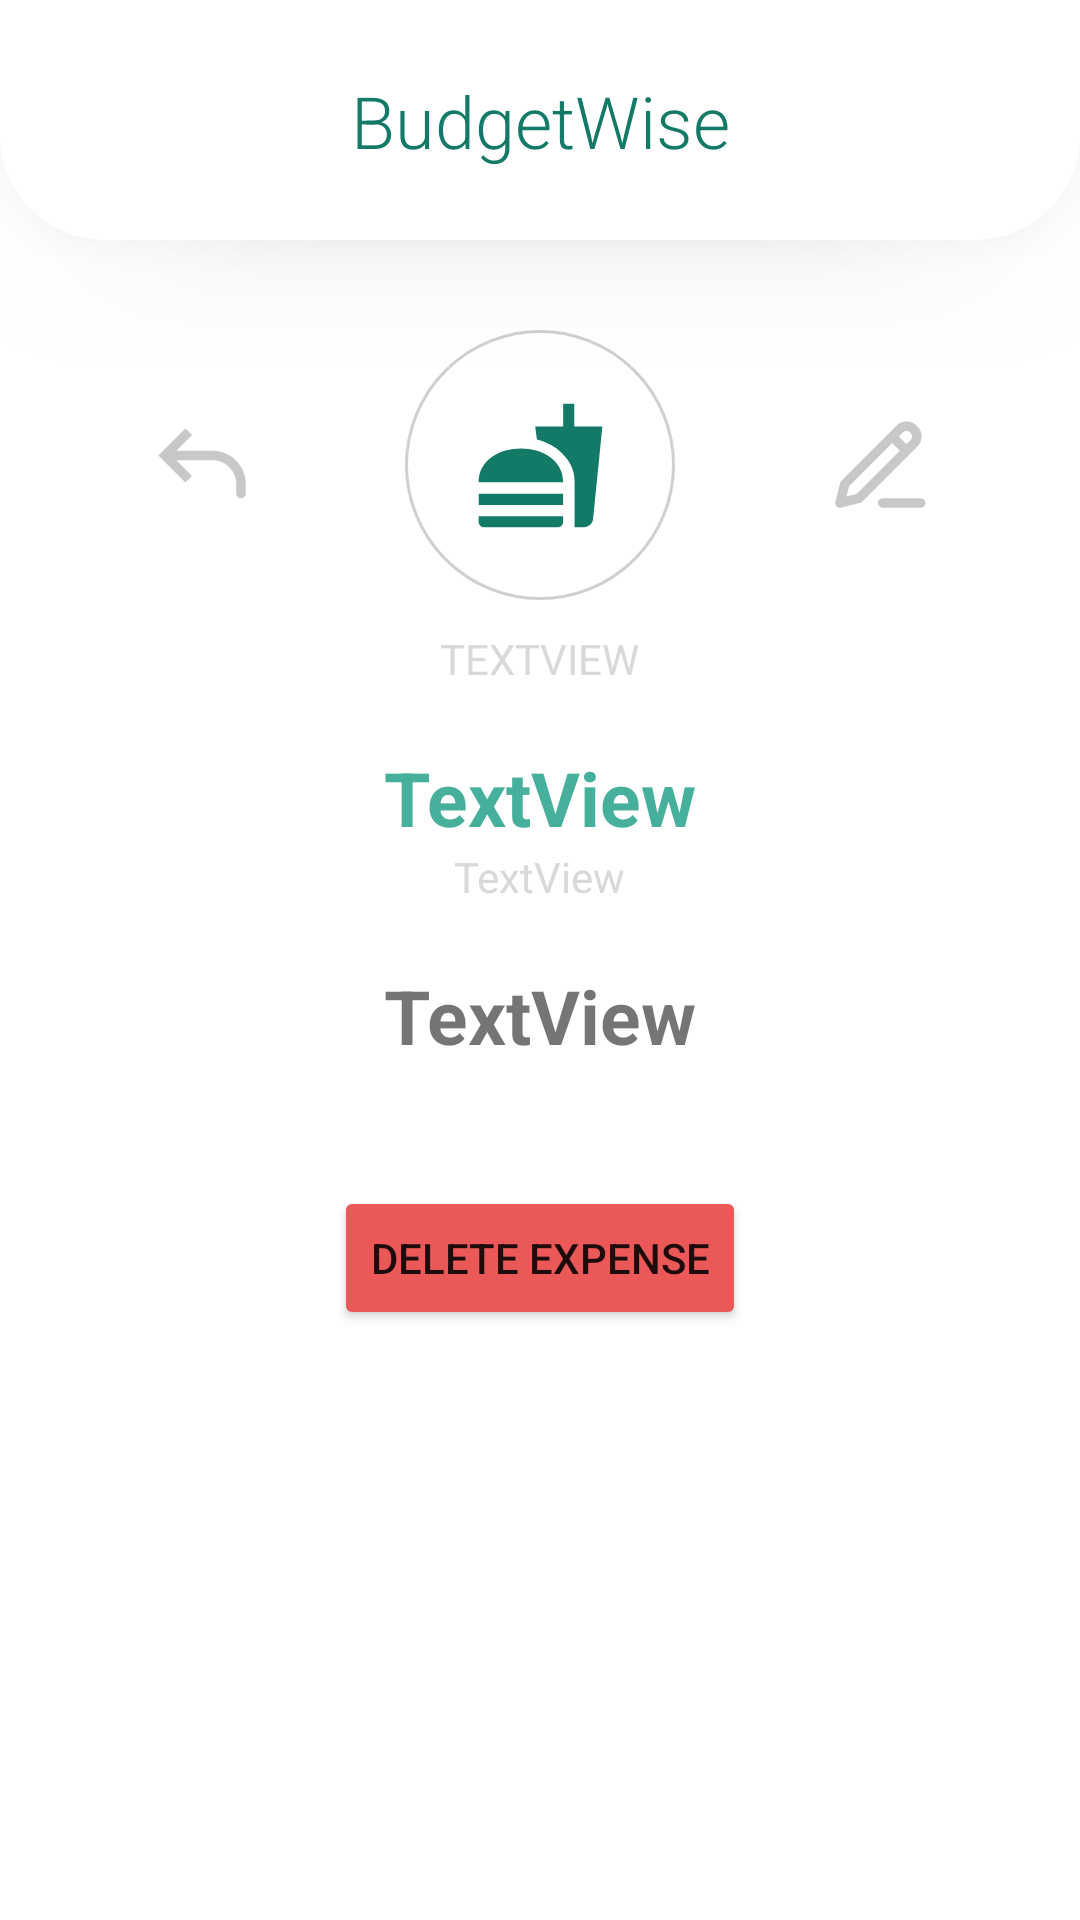

Screen size 1080*1920. Icon name, then its box in pixels as [x1=x1, y1=y1, x2=x2, y2=y2]:
fastfood: [x1=478, y1=403, x2=603, y2=528]
iconamoon edit: [x1=835, y1=421, x2=925, y2=508]
lets back: [x1=159, y1=429, x2=246, y2=498]
